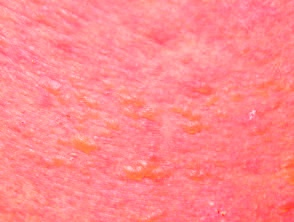SJS-TEN: (13, 62, 294, 222)
